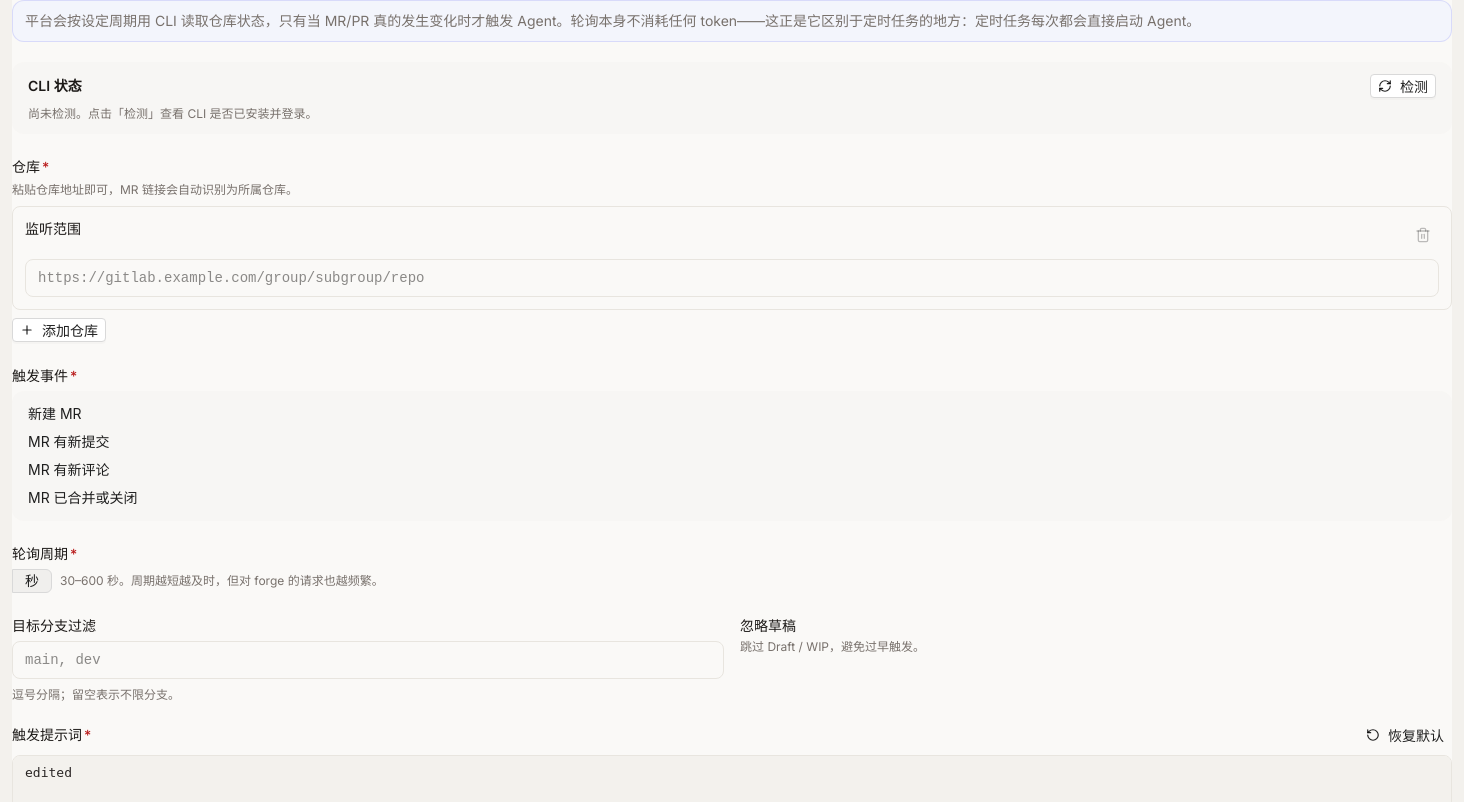
git trigger intent editor › disables Reset once the intent is back at the default
This screenshot has width=1464, height=802.
Click the button "恢复默认". click: (1405,735)
box: [1358,723,1452,747]
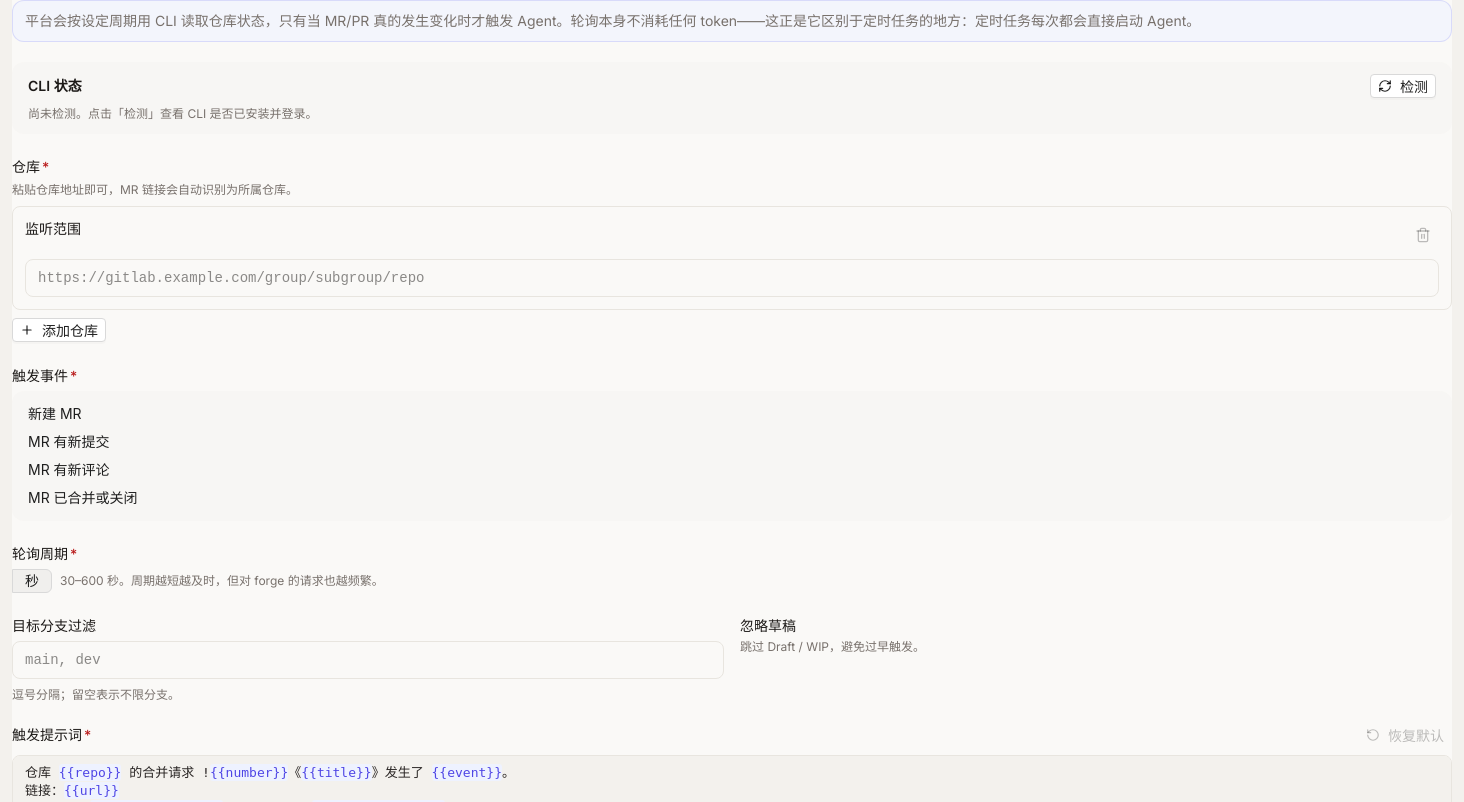
Check: the button "恢复默认" is disabled, box [1358,723,1452,747]
